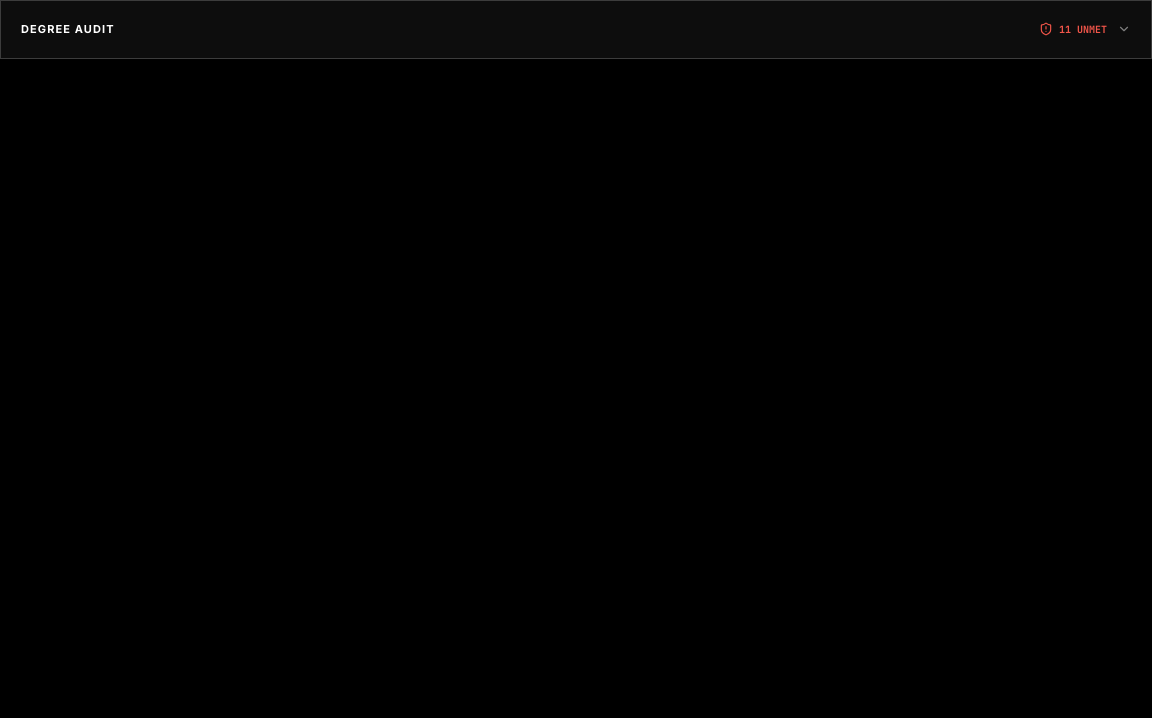
Test: DegreeAudit › counts unmet criteria in the header when something has failed
Expected: the text "11 unmet" is shown, top-left (1039, 22), bottom-right (1107, 37)
Step 1. Click the button "Degree Audit 11 unmet" → (68, 29), box top-left (1, 1), bottom-right (1151, 58)
(page scrolled)
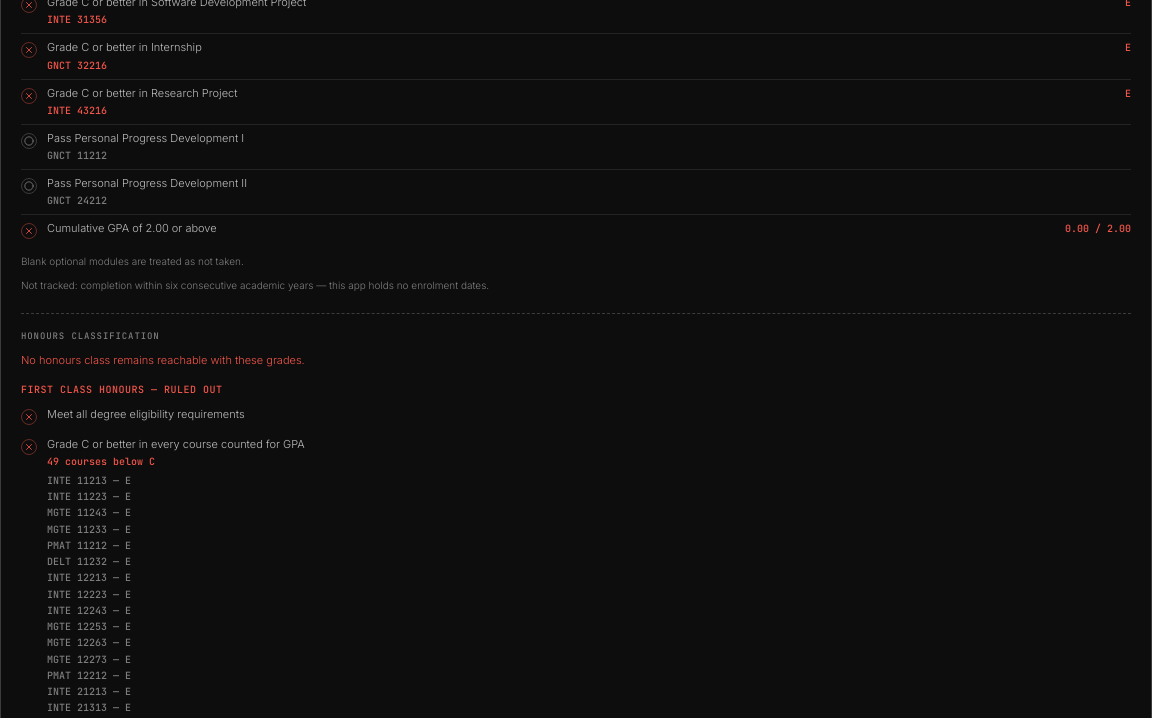
Now the text "No honours class remains reachable with these grades." is shown, box top-left (21, 353), bottom-right (305, 367)
